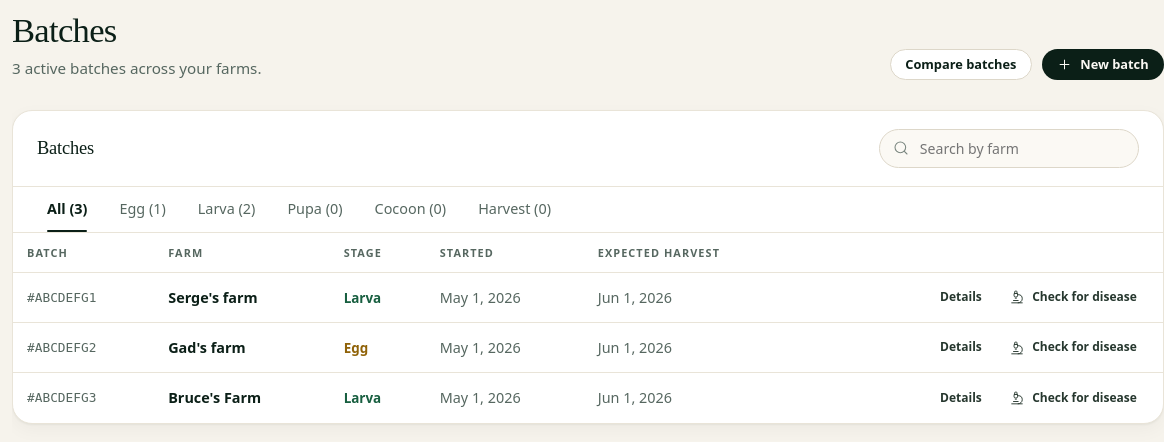
Test: Batches page › searches by farm
Expected: the text "Serge's farm" is shown, x1=154 y1=272 x2=330 y2=322
Type "gad" into the search field with placeholder "Search by farm" at (1009, 148), box x1=879 y1=129 x2=1139 y2=168
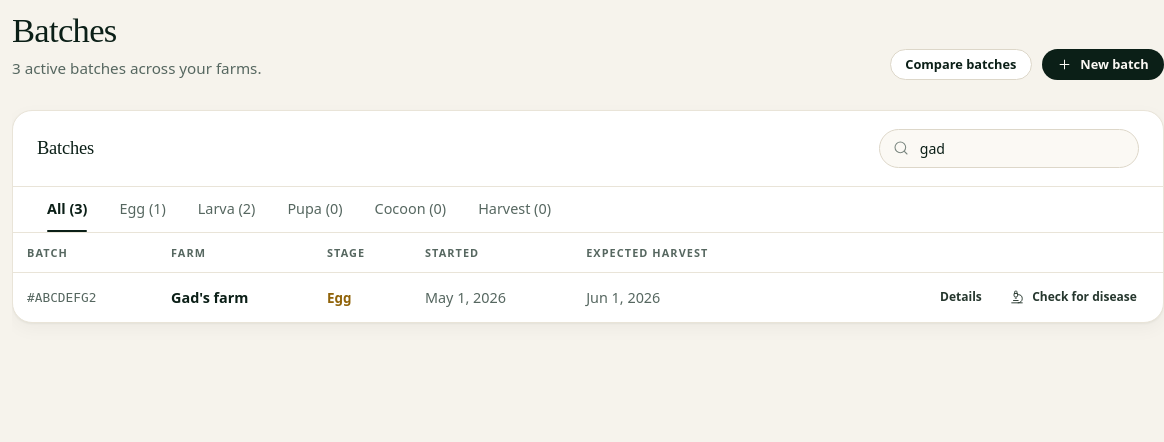
Expected: the text "Gad's farm" is shown, x1=157 y1=272 x2=313 y2=322
Expected: the text "Serge's farm" is gone
